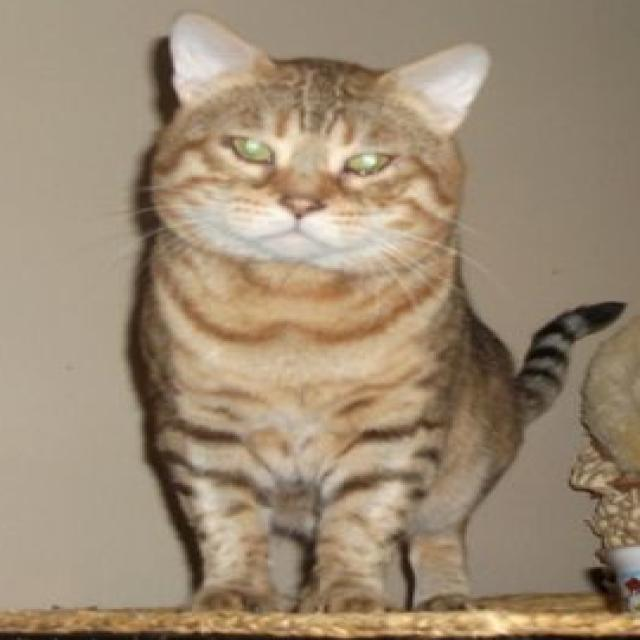Bengal: (119, 8, 628, 627)
